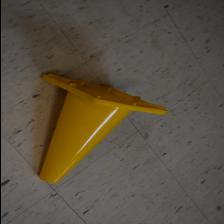cone: (38, 74, 168, 184)
